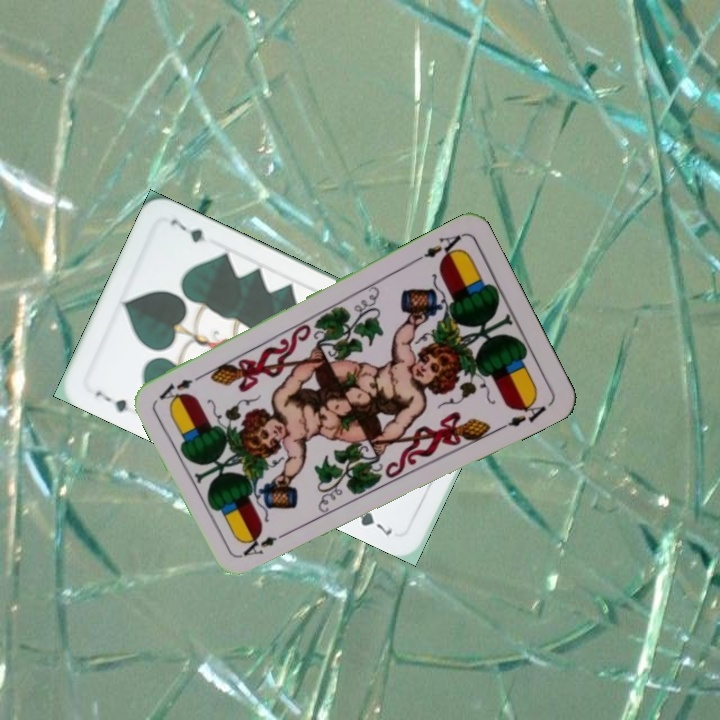EA: (411, 230, 466, 265), (236, 527, 293, 560)
G7: (90, 386, 132, 415)
